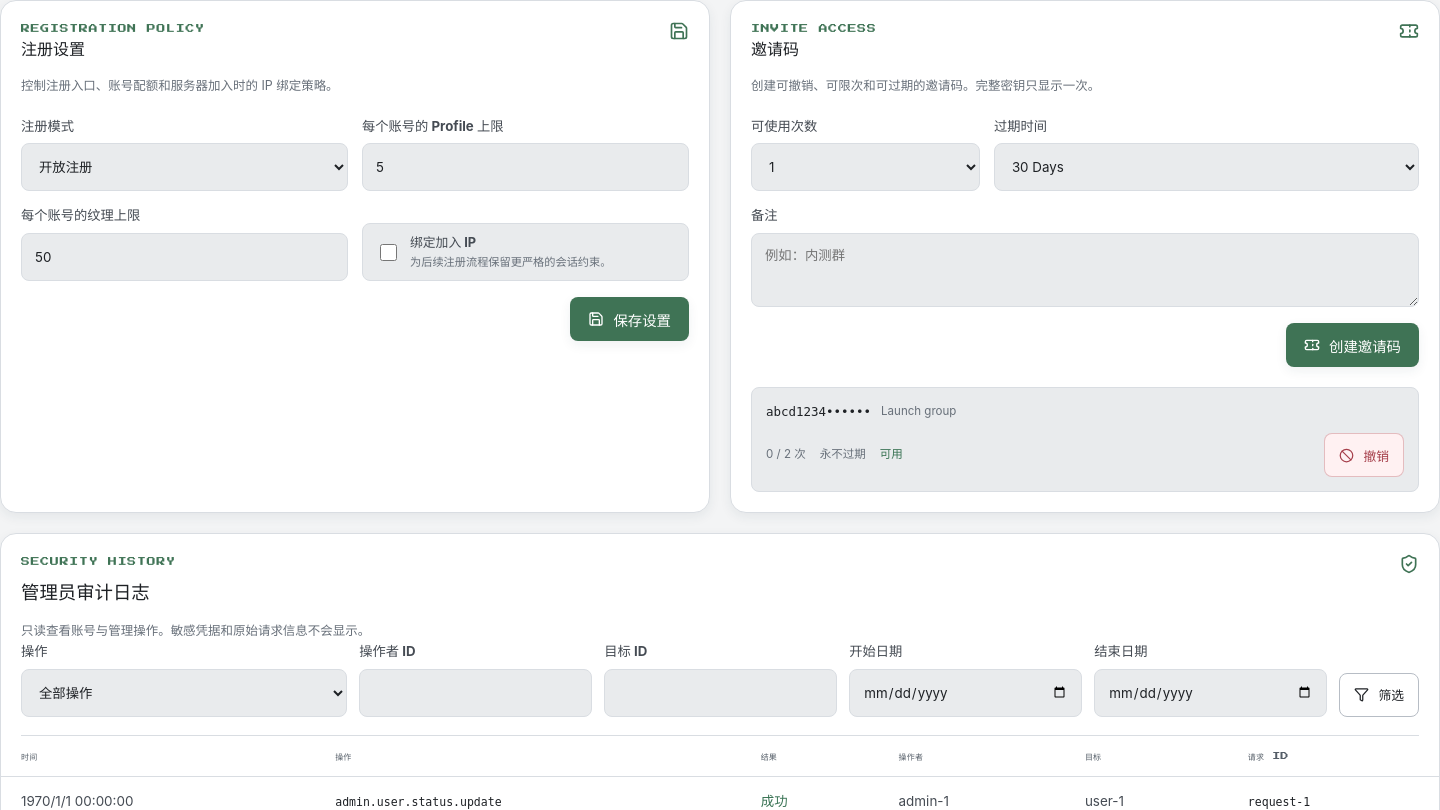
Test case: AdminView audit logs › renders read-only logs without metadata and reloads with action, actor, target, and date filters
The image size is (1440, 810).
Expected: the row that starts with "admin.user.status.update" is shown, 335,795 -> 502,809
Select "账号状态变更" in the dropdown named "audit-action": (184, 692) 21,668 -> 347,716
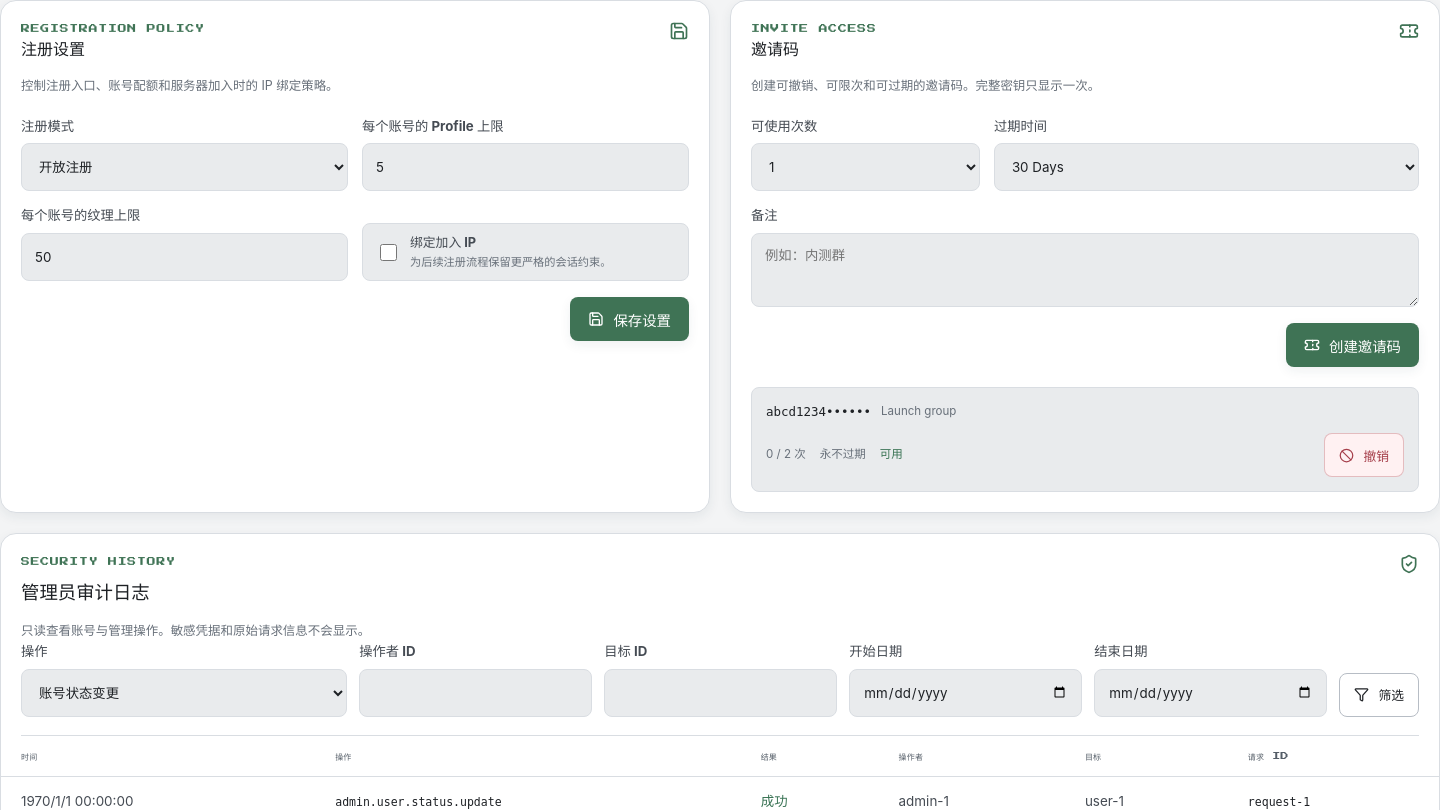
In the field named "audit-actor": (476, 692) 359,668 -> 592,716, type "admin-1"
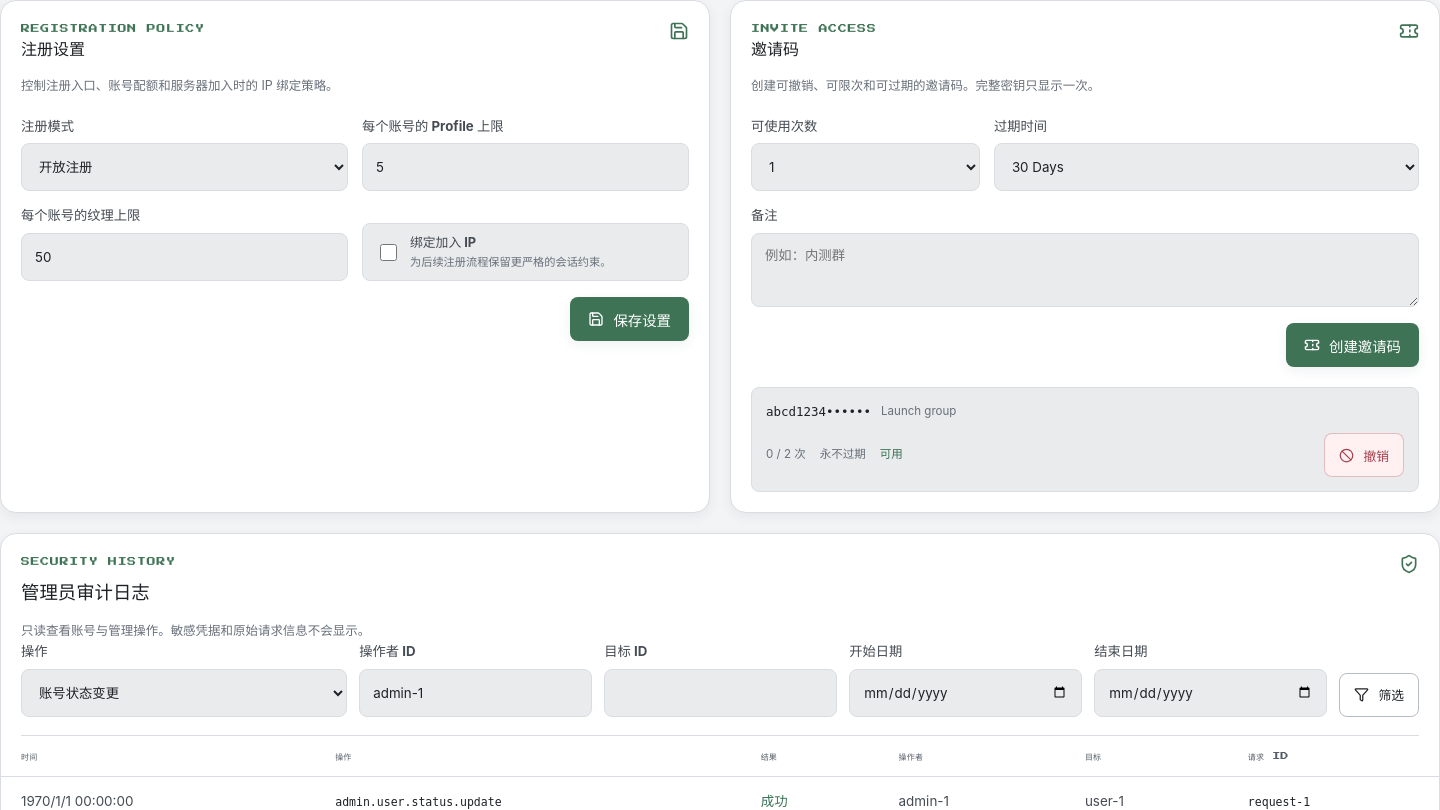
In the field named "audit-target": (721, 692) 604,668 -> 837,716, type "user-1"
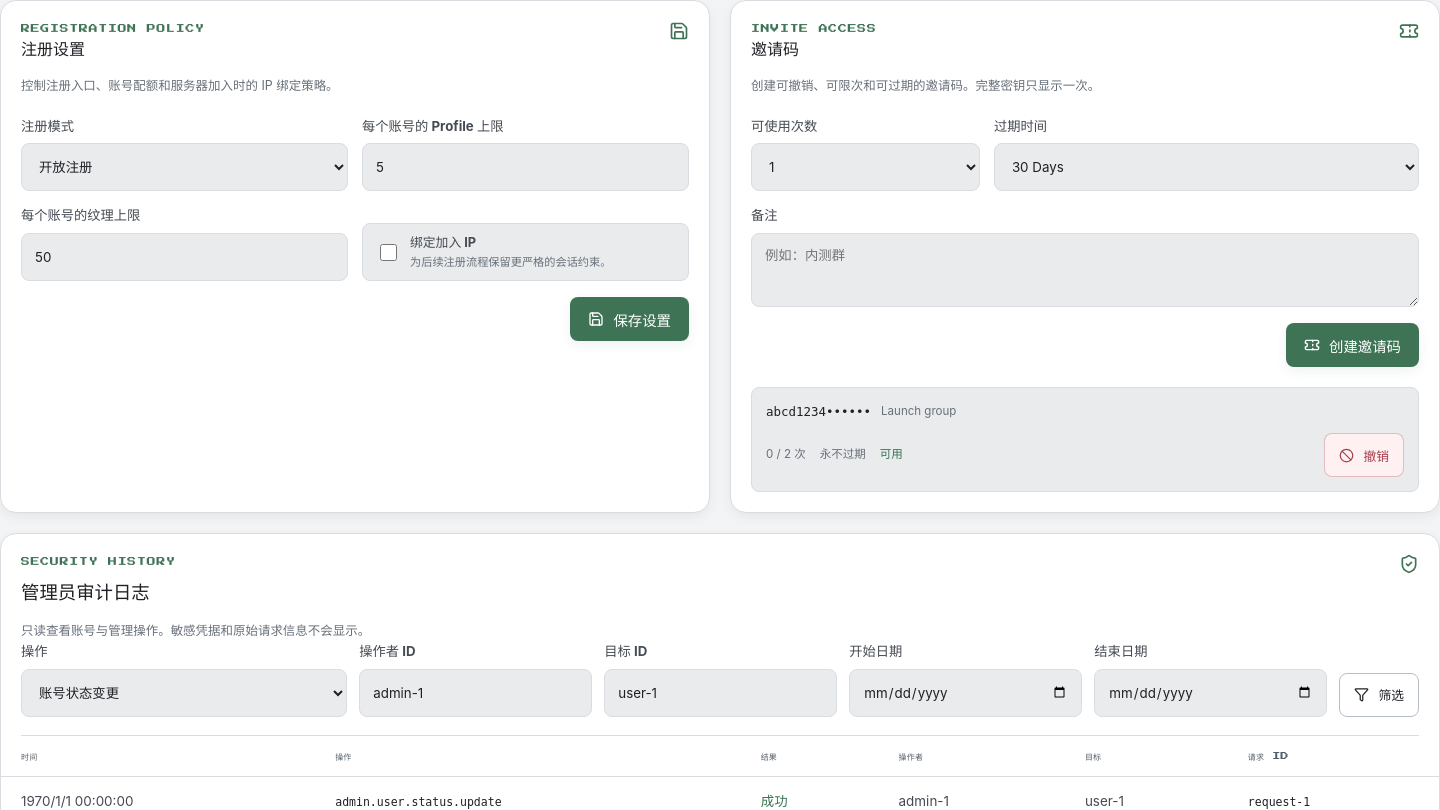
In the date field named "audit-date-from": (966, 692) 849,668 -> 1082,716, type "2026-09-01"
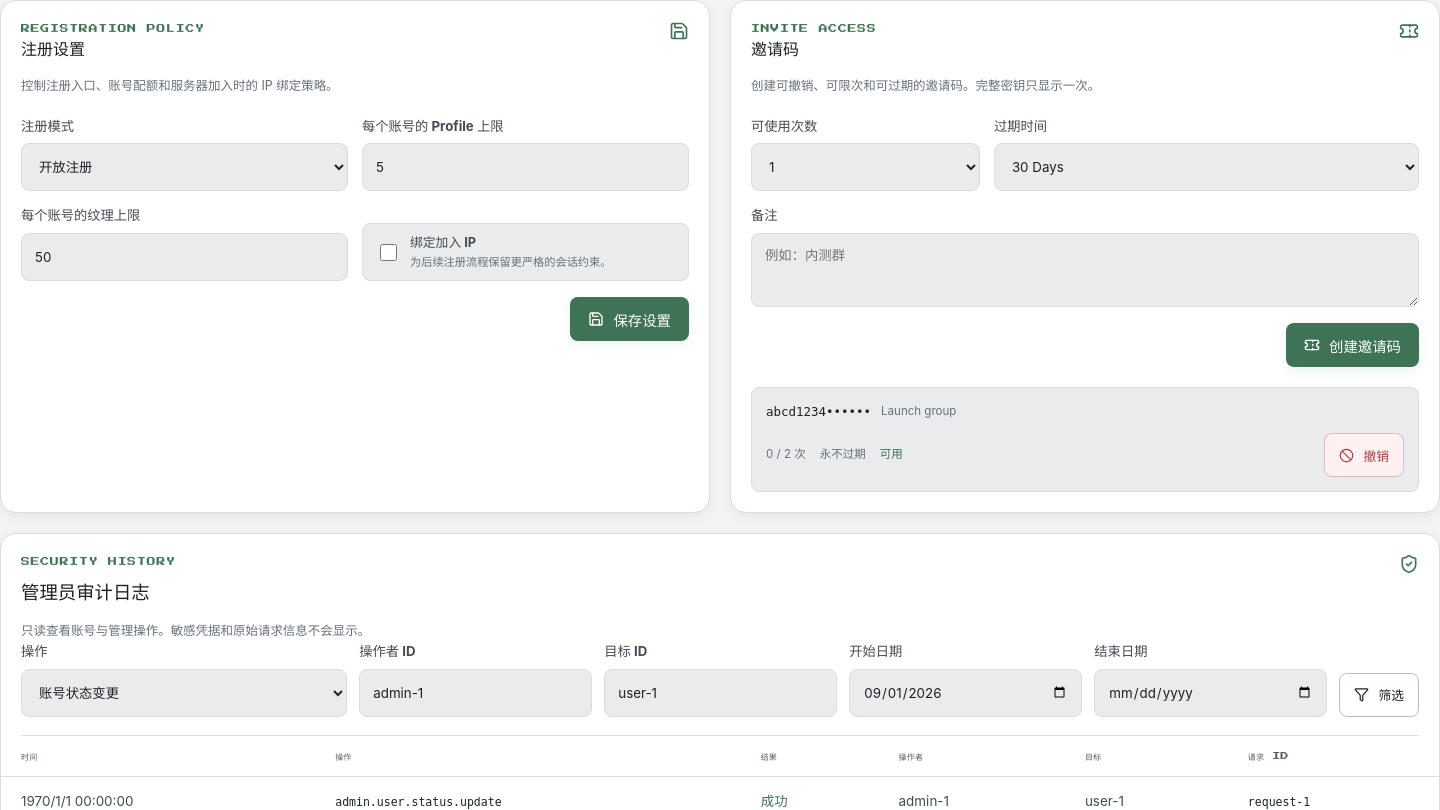
In the date field named "audit-date-to": (1211, 692) 1094,668 -> 1327,716, type "2026-09-13"
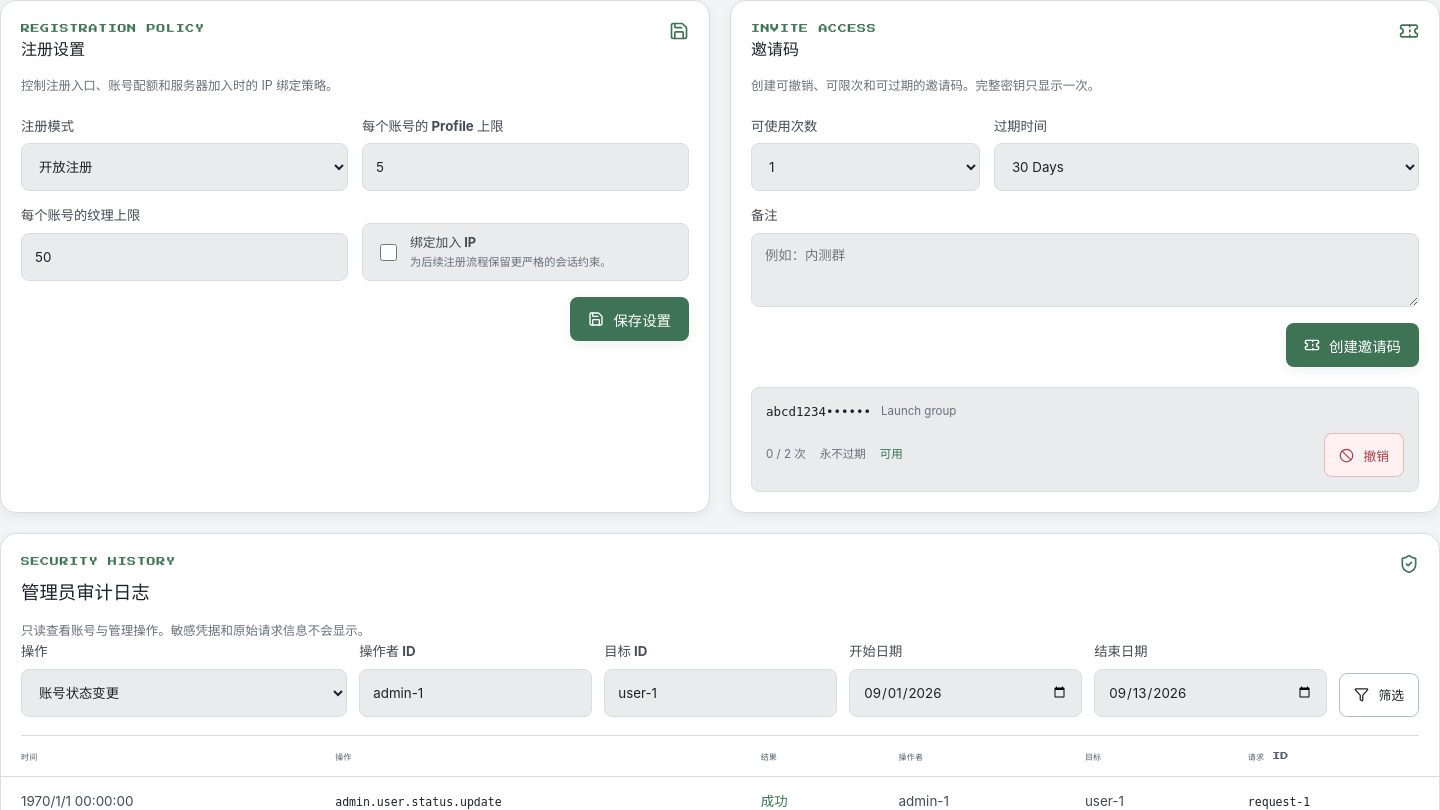
Submit the form with class "admin-audit-filters", box 21,641 -> 1419,736
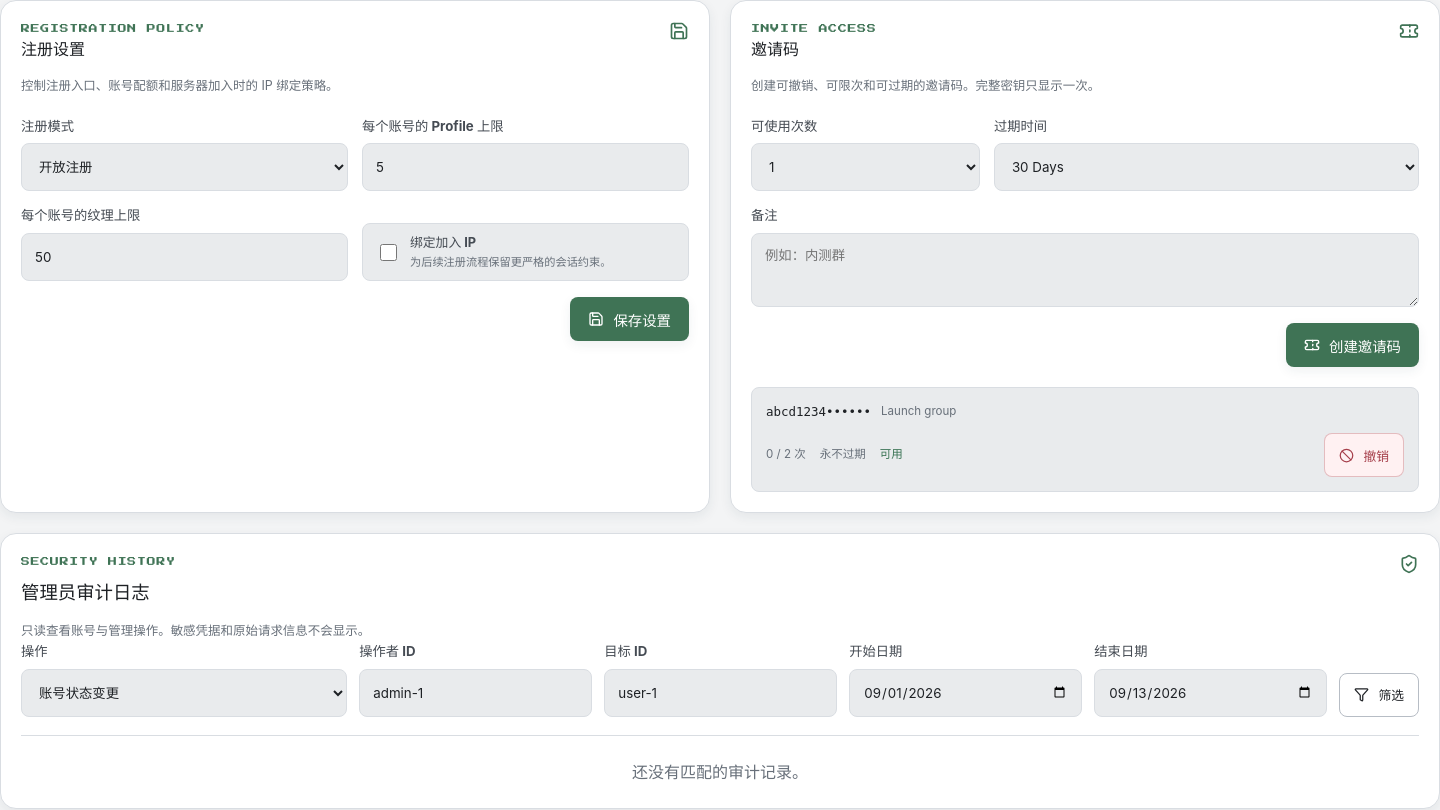
Expected: the text "还没有匹配的审计记录。" is shown, 632,762 -> 808,782
